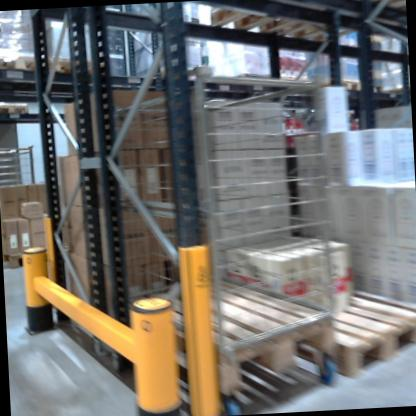pallet: (112, 258, 336, 404), (230, 263, 416, 387), (262, 0, 407, 48), (197, 0, 382, 33), (42, 49, 112, 82), (0, 44, 40, 78), (6, 247, 60, 268), (317, 77, 364, 95), (0, 97, 32, 116)
